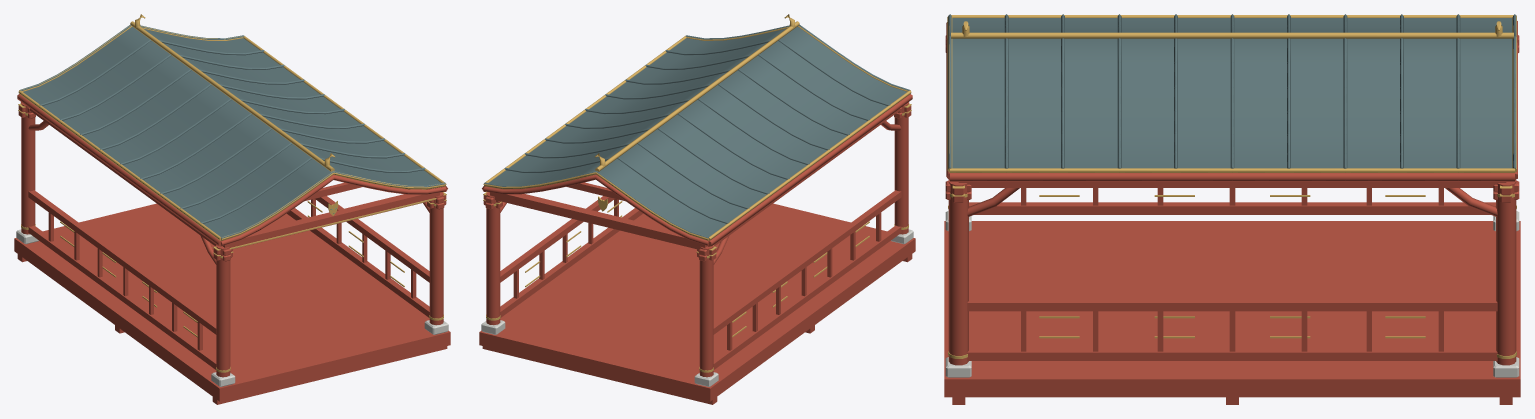
File: covered_bridge.glb
3 renders of one model, left to right at view 1: azimuth 30°, elevation 25°; view 2: azimuth 150°, elevation 25°; view 3: azimuth 270°, elevation 25°, orthographic. The views are drawn at different scales.
Parts seen in each view (by area): view 1: covered_bridge_Timber, covered_bridge_Roof, covered_bridge_Gold, covered_bridge_Stone; view 2: covered_bridge_Timber, covered_bridge_Roof, covered_bridge_Gold, covered_bridge_Stone; view 3: covered_bridge_Timber, covered_bridge_Roof, covered_bridge_Gold, covered_bridge_Stone.
Boxes of the visible parts, x1,y1,x2,y2 form: covered_bridge_Timber: (14, 94, 450, 404); covered_bridge_Roof: (20, 24, 445, 238); covered_bridge_Gold: (18, 14, 446, 372); covered_bridge_Stone: (16, 229, 448, 386); covered_bridge_Timber: (479, 94, 915, 404); covered_bridge_Roof: (484, 24, 909, 238); covered_bridge_Gold: (483, 14, 911, 372); covered_bridge_Stone: (481, 229, 913, 386); covered_bridge_Timber: (944, 21, 1520, 404); covered_bridge_Roof: (948, 14, 1516, 168); covered_bridge_Gold: (947, 15, 1516, 358); covered_bridge_Stone: (945, 211, 1519, 377).
Bounding box in the file's own units: 5.2 × 4.71 × 8.
